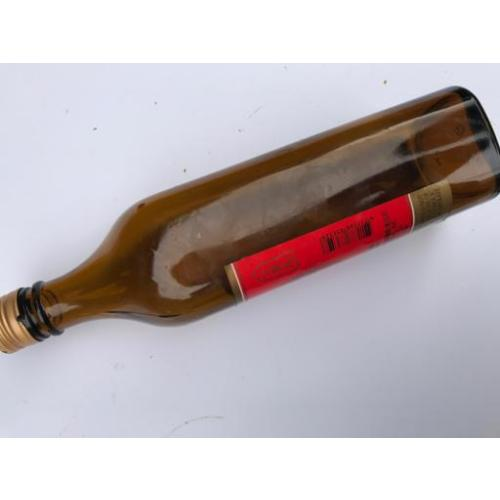glass: (3, 86, 499, 348)
